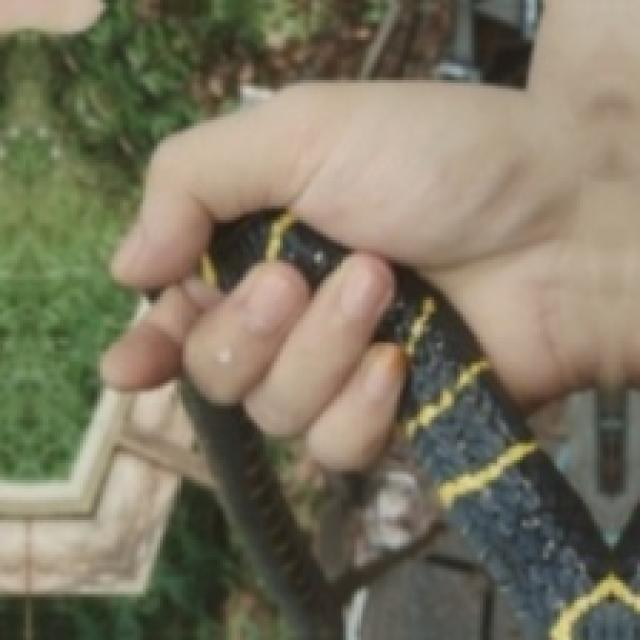mangrove cat snake: (269, 266, 637, 637), (197, 211, 346, 291)
